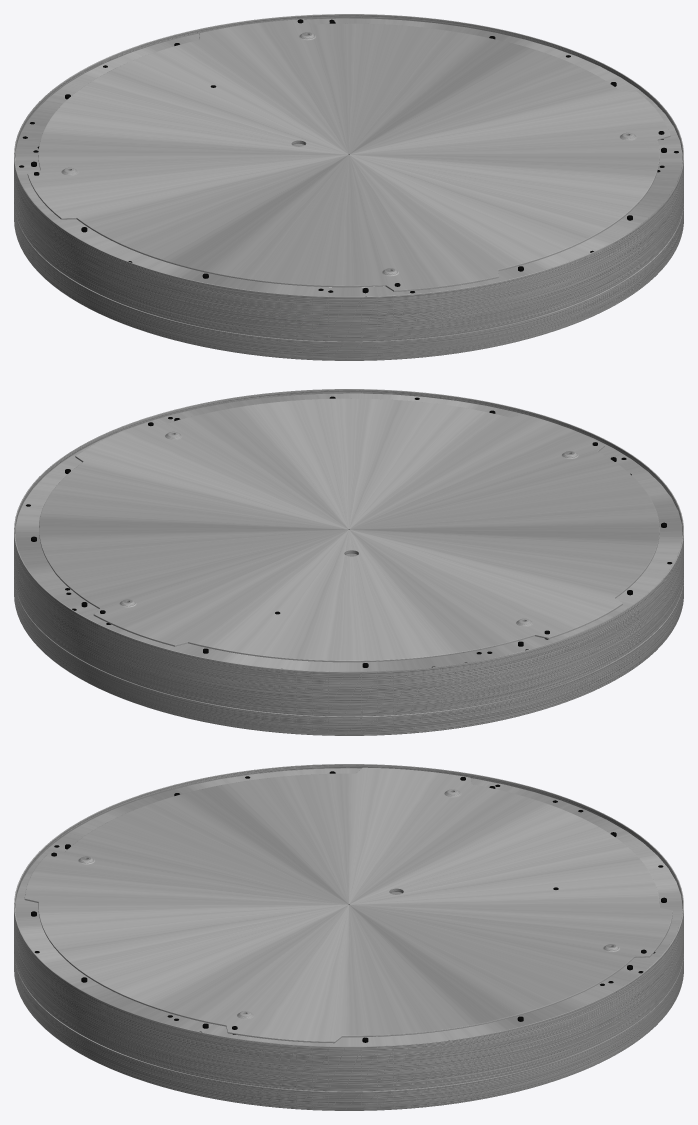
The model's file is AM152_008 Tlon Light 950 Ceiling.FBX.
3 renders of one model, top to bottom at view 1: azimuth 30°, elevation 25°; view 2: azimuth 150°, elevation 25°; view 3: azimuth 270°, elevation 25°, orthographic.
Parts seen in each view (by area): view 1: AM152_008_body_s; view 2: AM152_008_body_s; view 3: AM152_008_body_s, AM152_008_screws_s.
Part boxes in pixels (x1,y1,x2,y2): AM152_008_body_s: [14, 14, 683, 360]; AM152_008_body_s: [14, 389, 683, 735]; AM152_008_body_s: [14, 764, 683, 1110]; AM152_008_screws_s: [31, 771, 666, 1042].
Bounding box in the file's own units: 94.94 × 10.62 × 94.94.
4 materials, 2 textured.
